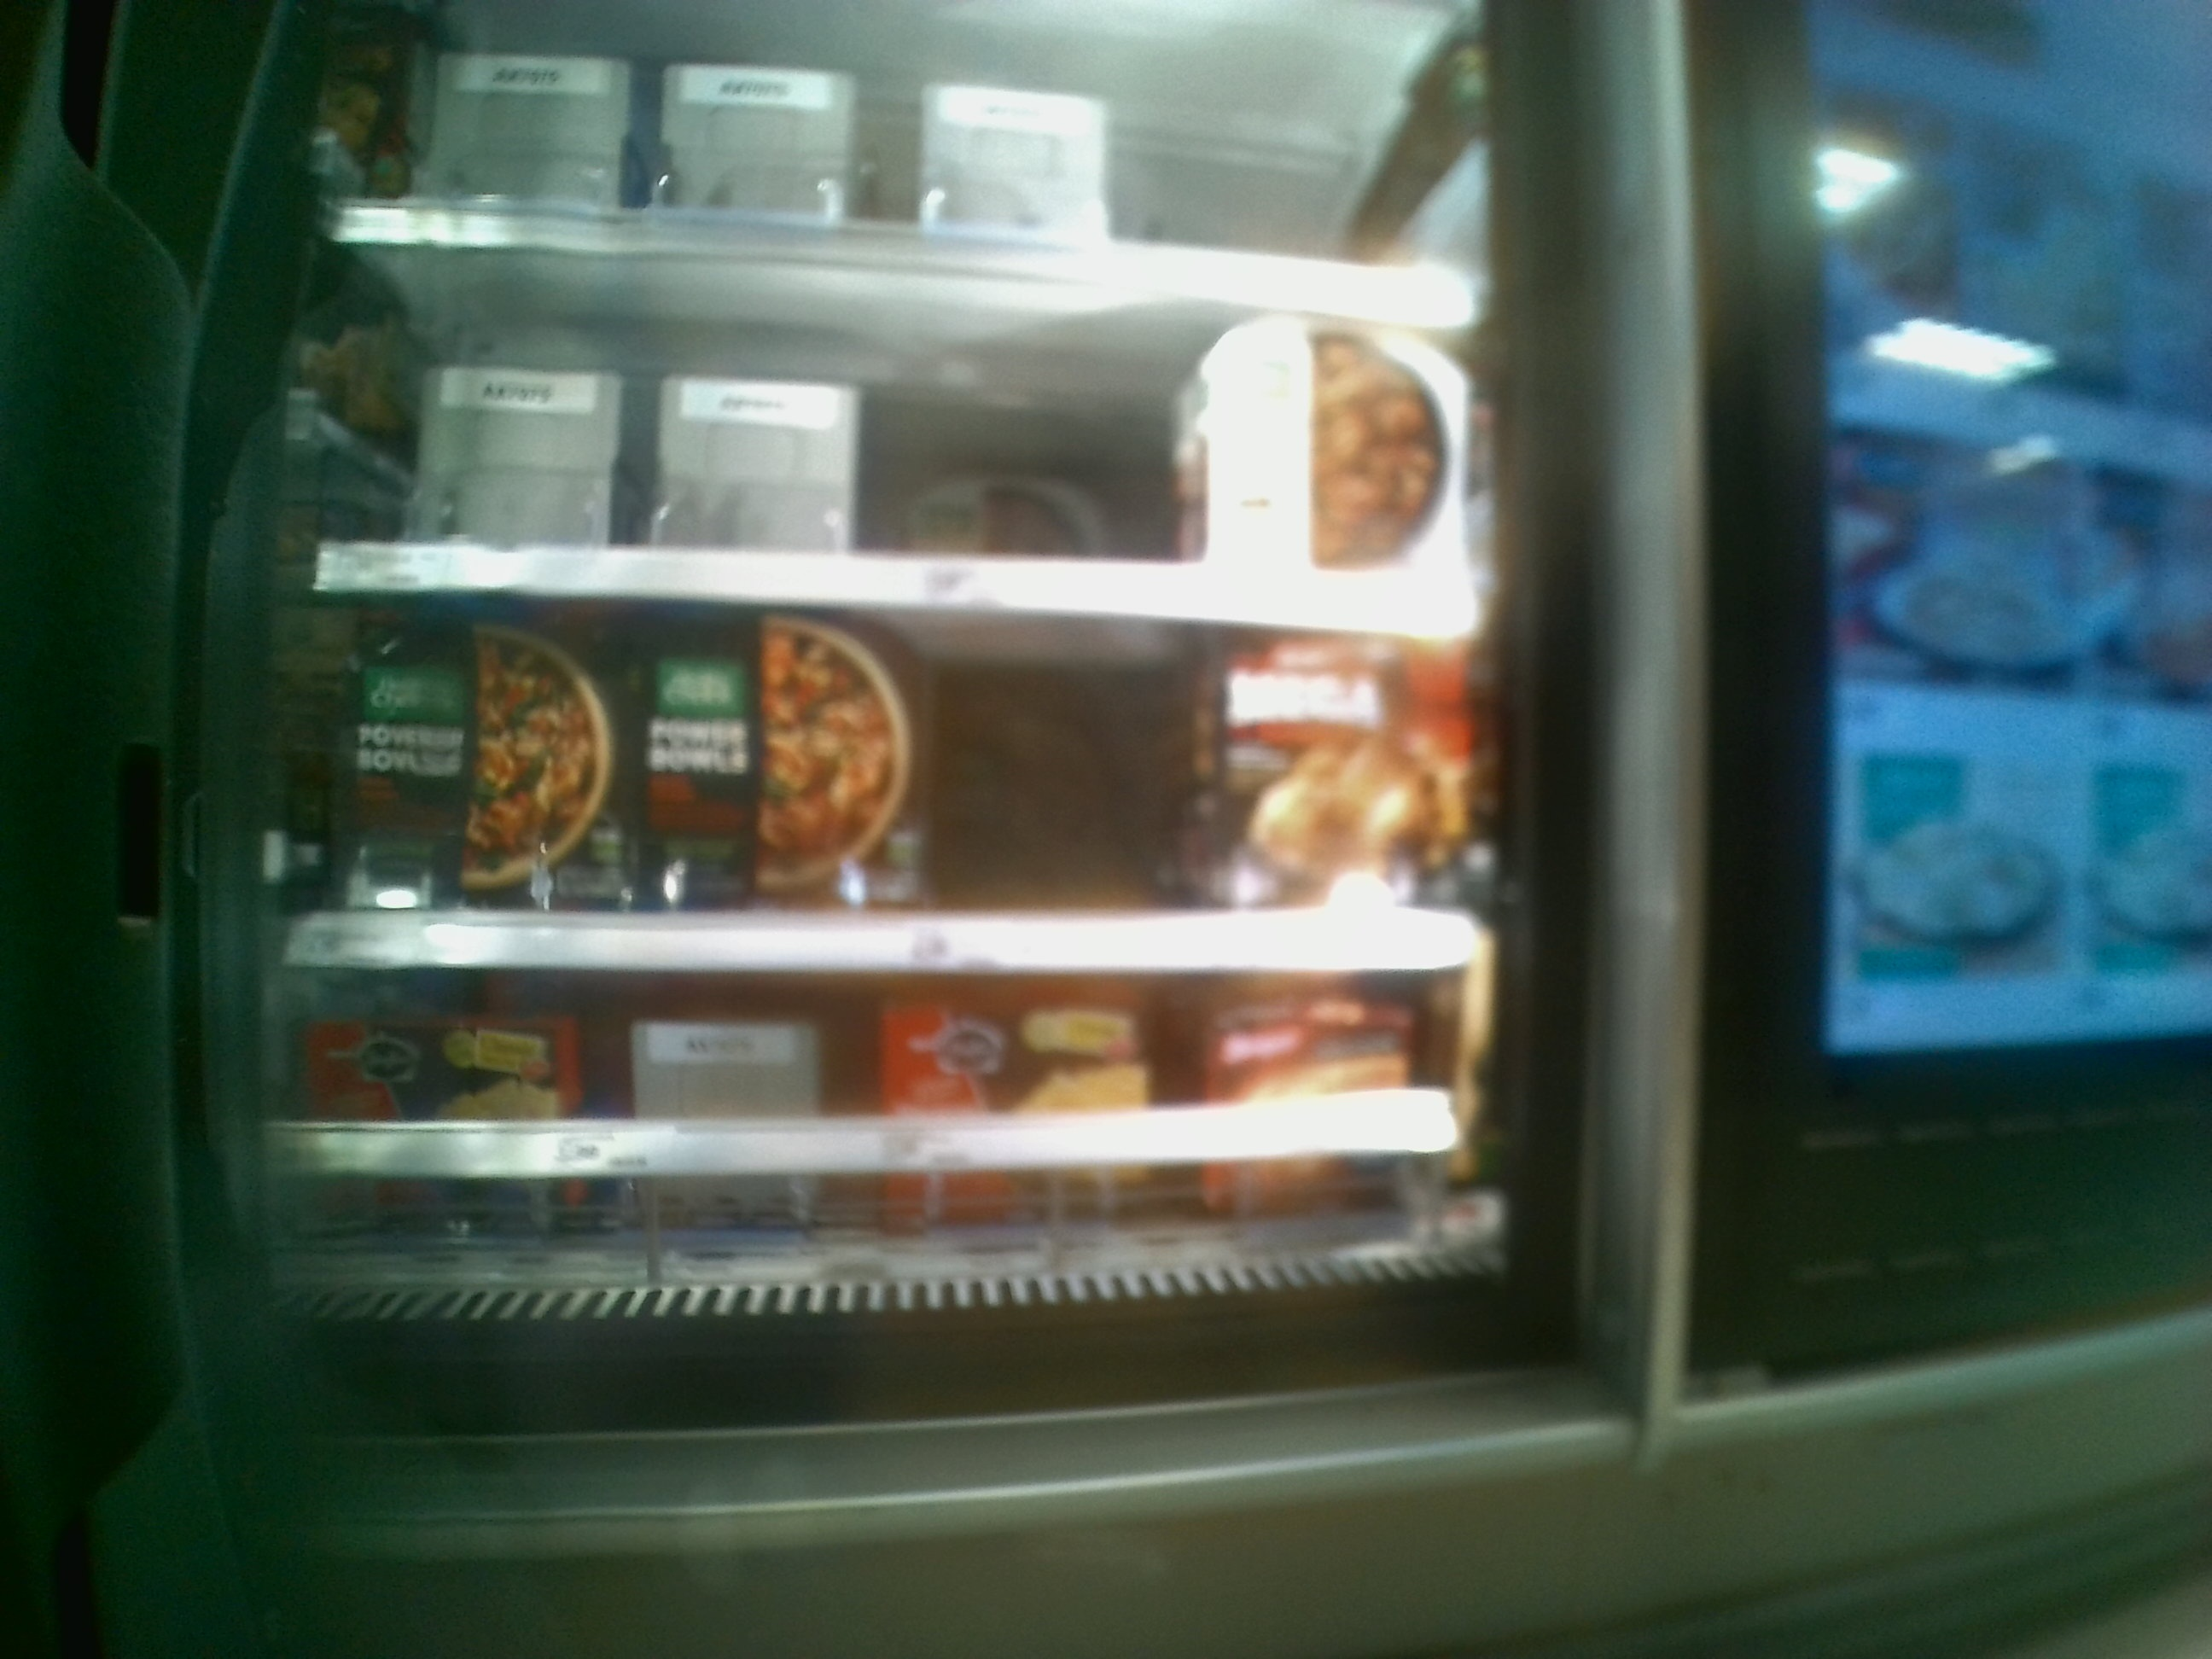shelf: (314, 230, 1479, 626), (296, 591, 1503, 967), (268, 972, 1510, 1333)
